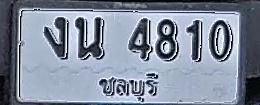0: (209, 19, 232, 61)
1: (186, 20, 202, 62)
4: (128, 18, 151, 60)
8: (156, 18, 178, 60)
A07: (44, 16, 68, 59)
A25: (75, 16, 104, 59)
CBI: (94, 68, 162, 103)
